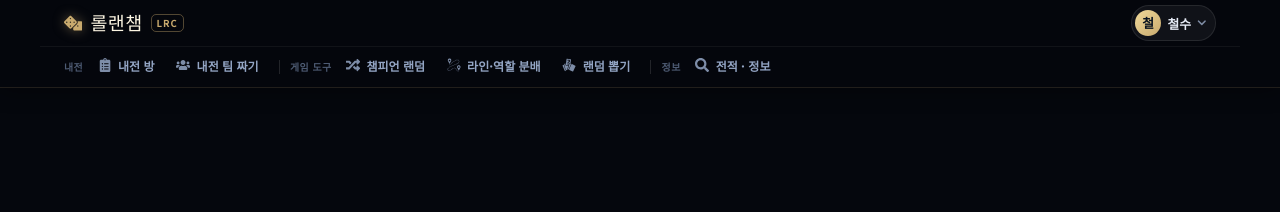
Scenario: 로그인 상태면 아바타와 이름이 뜨고, 눌러야 로그아웃이 보인다
Expected: the text with class "user-name" reads "철수", [1168,14,1191,32]
Expected: the text with class "avatar-letter" reads "철", [1142,13,1154,32]
Click the button with class "user-trigger": {"x": 1173, "y": 23} [1131,6,1216,40]
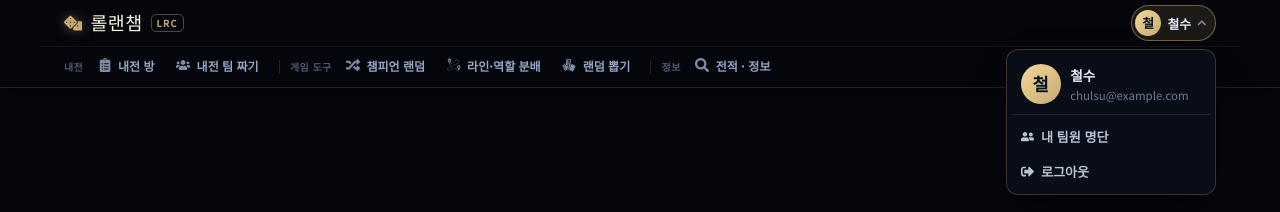
Expected: the element with class "user-info" shows "chulsu@example.com", [1070,87,1189,103]
Click the menu item with class "user-signout": {"x": 1111, "y": 172} [1012,154,1210,189]
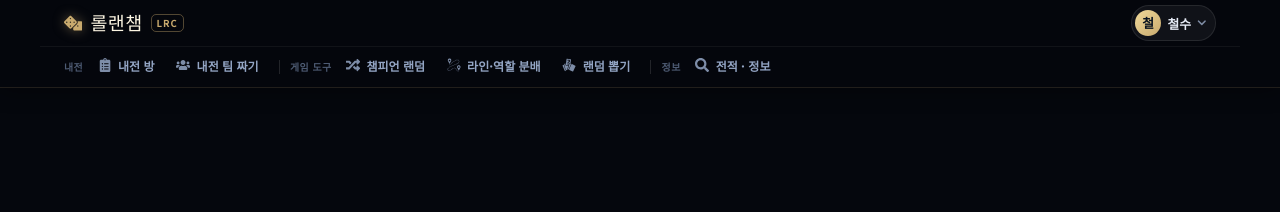
Expected: the menu with class "user-dropdown" is gone
